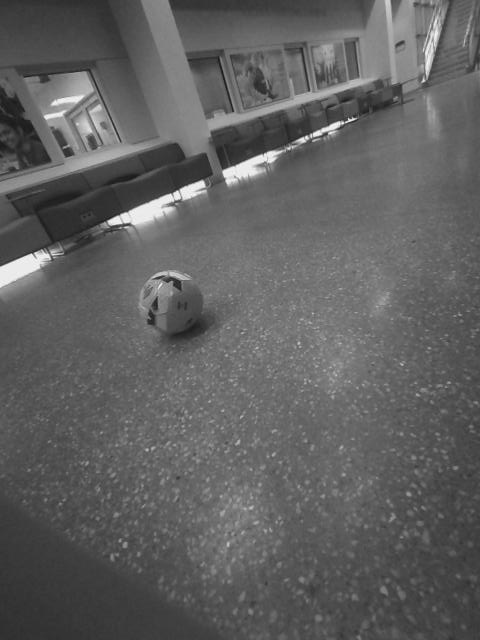ball: (133, 266, 213, 341)
